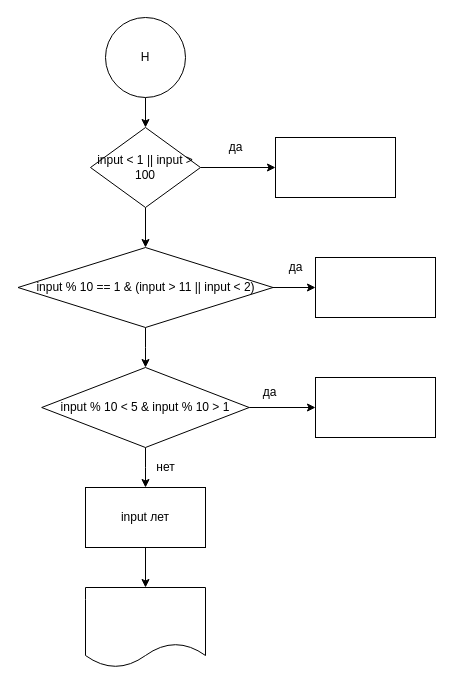
The diagram is 453 pixels wide and 685 high, and some of its shapes have lost their labels. Each missing label, with the box of its shape:
input год: (314, 256, 436, 318)
input года: (314, 376, 436, 438)
граница диапазона: (274, 136, 396, 198)
